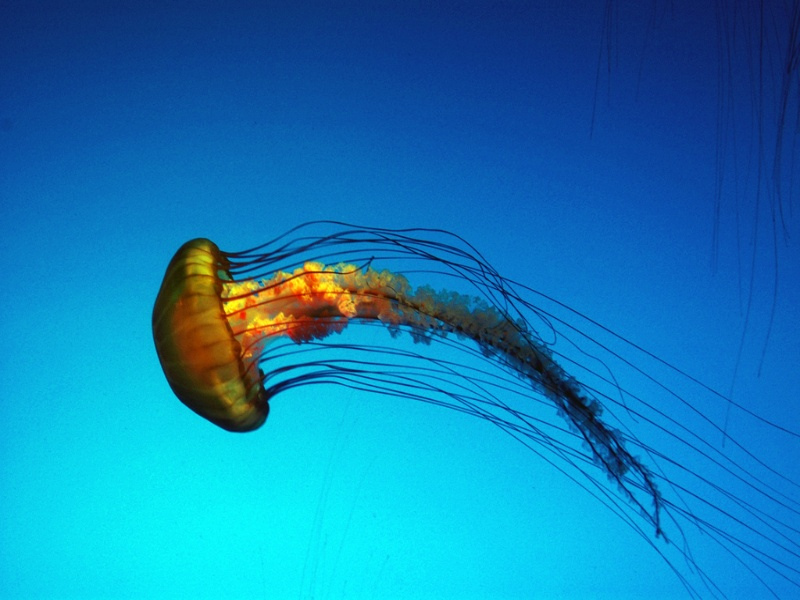Jellyfish: (147, 217, 798, 599)
